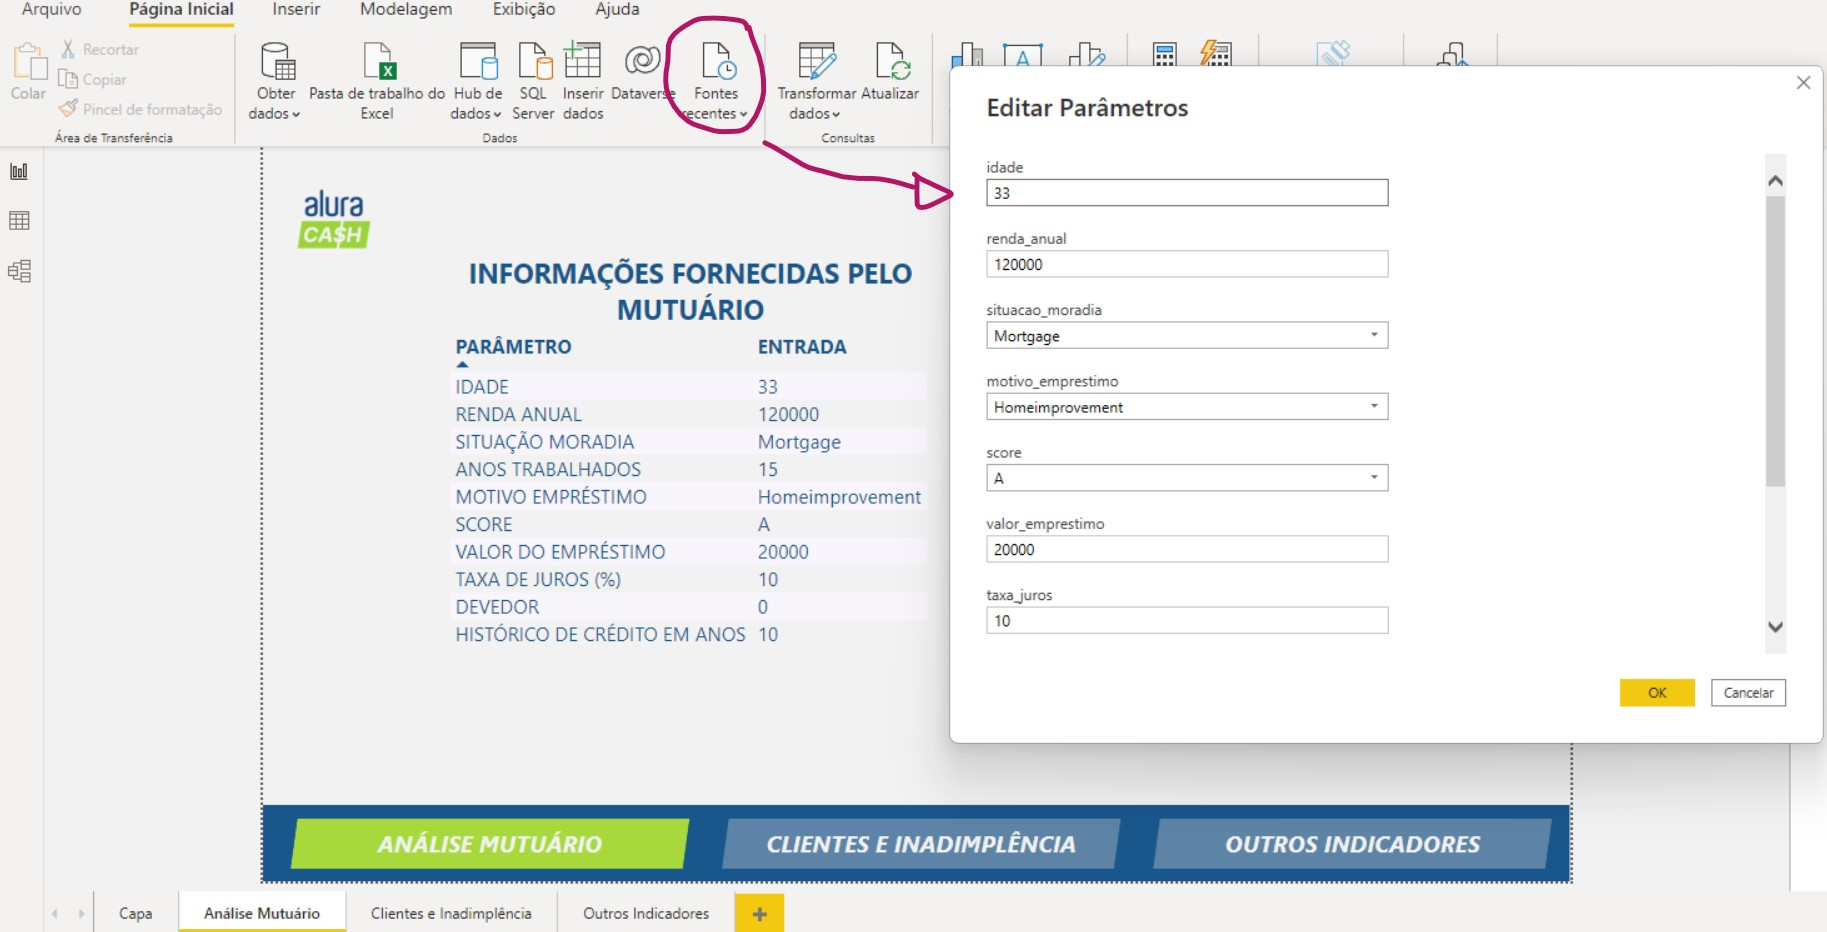

This screenshot's page, from the dashboard's own definition file:
{"tool":"powerbi","page":{"name":"Análise Mutuário","canvas":[1280,720],"ordinal":1},"visuals":[{"type":"shape","box":[0,645.4,1279.9,74.6],"z":0},{"type":"image","box":[0,0,139.4,141.8],"z":1000},{"type":"card","title":"Situação:","fields":{"Values":["Min(fDadoNovoCliente.Inadimplente_S_N)"]},"box":[707.3,39.2,555.6,130.9],"z":2000},{"type":"donutChart","fields":{"Y":["Sum(v1=30&v2=40000&v3=Rent&v4=2&v5=Personal&v6=C&v7=5000&v8=1&v9=0&v10=10.Probabilidade negativa)","Sum(v1=30&v2=40000&v3=Rent&v4=2&v5=Personal&v6=C&v7=5000&v8=1&v9=0&v10=10.Probabilidade Positiva)"]},"box":[640,204.4,640,386.7],"z":3000},{"type":"tableEx","title":"INFORMAÇÕES FORNECIDAS PELO MUTUÁRIO","fields":{"Values":["fDadoMutuario.PERGUNTAS","fDadoMutuario.RESPOSTAS"]},"box":[177.4,105.2,482.1,428.3],"z":5000},{"type":"actionButton","title":"índice","box":[26.9,658.9,391.2,48.9],"z":6000},{"type":"actionButton","title":"índice","box":[449.2,658.9,391.2,48.9],"z":7000},{"type":"actionButton","title":"índice","box":[871.6,658.9,391.2,48.9],"z":8000}]}

Visuals, with their boxes on the page's 1280x720 design canvas (x1, y1, x2, y2). These are canvas units, not pixel positions in the 1827x932 screenshot, which may show the page scaled, cropped or inside an application window:
shape: 0, 645, 1280, 720
image: 0, 0, 139, 142
"Situação:" card: 707, 39, 1263, 170
donutChart - Sum(v1=30&v2=40000&v3=Rent&v4=2&v5=Personal&v6=C&v7=5000&v8=1&v9=0&v10=10.Probabilidade negativa) x Sum(v1=30&v2=40000&v3=Rent&v4=2&v5=Personal&v6=C&v7=5000&v8=1&v9=0&v10=10.Probabilidade Positiva): 640, 204, 1280, 591
"INFORMAÇÕES FORNECIDAS PELO MUTUÁRIO" tableEx: 177, 105, 660, 534
"índice" actionButton: 27, 659, 418, 708
"índice" actionButton: 449, 659, 840, 708
"índice" actionButton: 872, 659, 1263, 708
